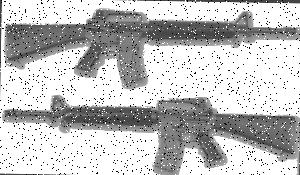rifle: (1, 87, 297, 173), (1, 2, 299, 86)
